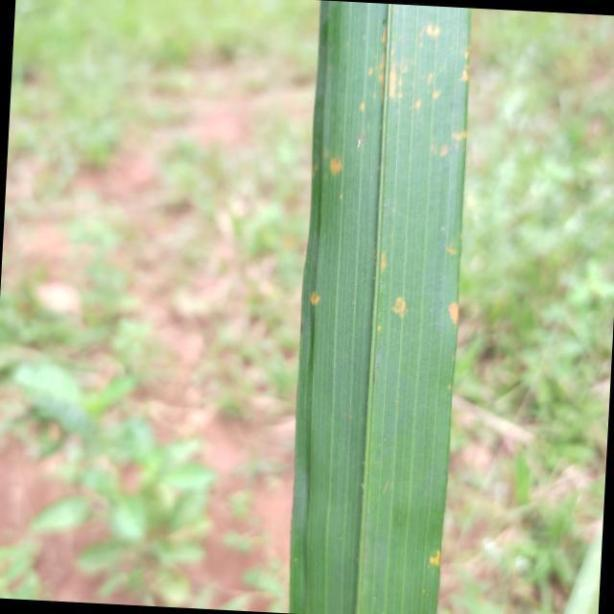Kalium: (293, 0, 473, 614)
